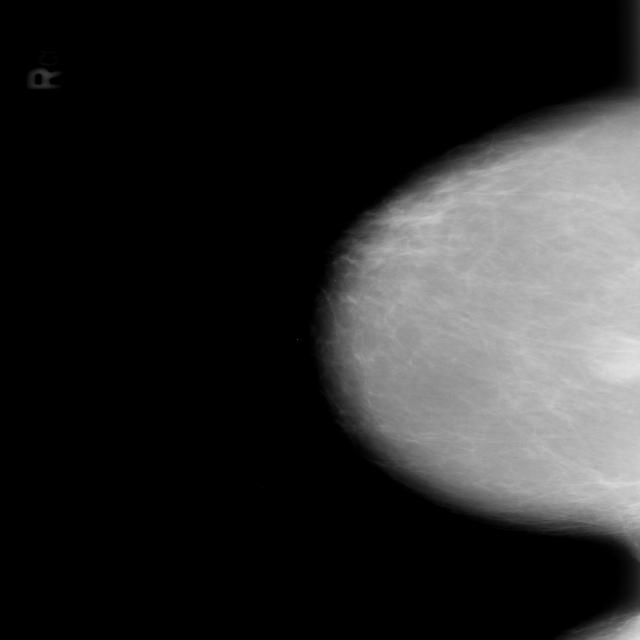normal: (286, 79, 640, 522)
